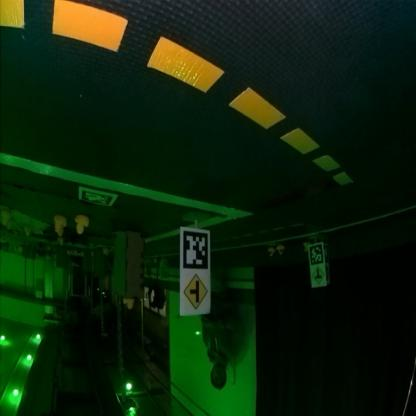Duckie: (76, 217, 90, 235), (56, 218, 66, 234), (124, 300, 134, 308), (278, 248, 284, 255), (270, 250, 275, 258)
Intersection sign: (184, 278, 208, 312), (312, 270, 326, 286)
QR code: (182, 230, 210, 271), (78, 188, 118, 208), (310, 245, 324, 265)
